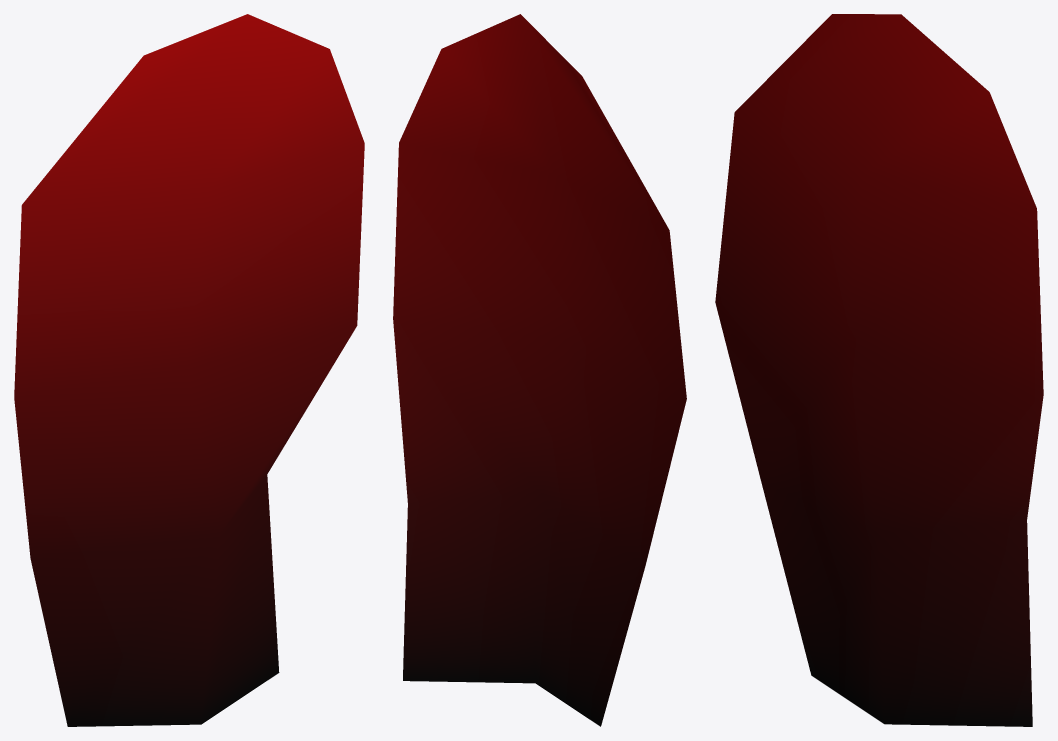
3 views of the same model, side by side, from view 1: azimuth 30°, elevation 25°; view 2: azimuth 150°, elevation 25°; view 3: azimuth 330°, elevation 25° (orthographic). The views are drawn at different scales.
Parts seen in each view (by area): view 1: Cystoseira; view 2: Cystoseira; view 3: Cystoseira.
Part boxes in pixels (x1,y1,x2,y2): Cystoseira: [14, 14, 364, 726]; Cystoseira: [393, 14, 686, 726]; Cystoseira: [715, 14, 1043, 726].
Size of the model in its own units: 0.5198 by 1.07 by 0.14.
